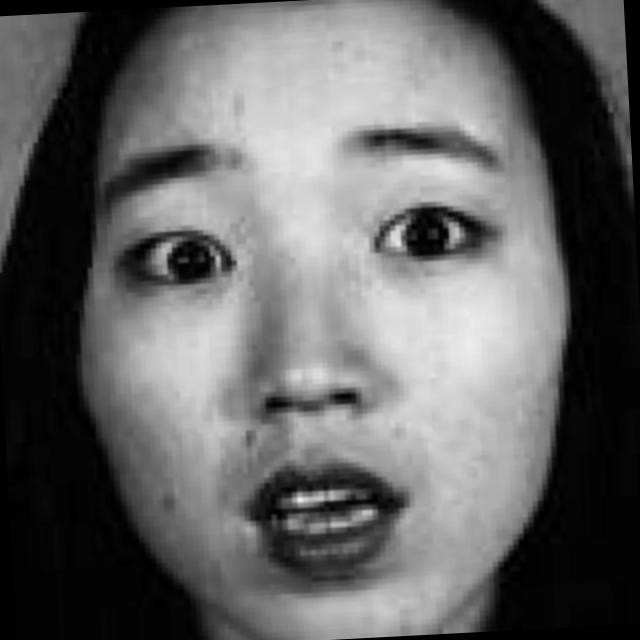surprise: (51, 7, 554, 640)
